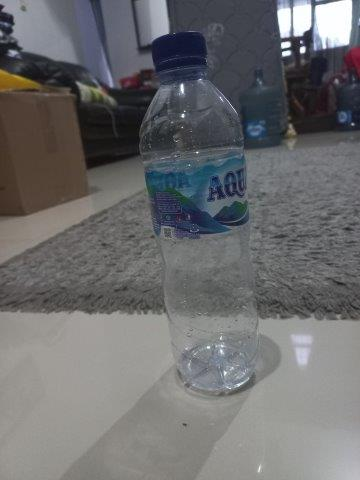botolplastik: (136, 29, 261, 396)
